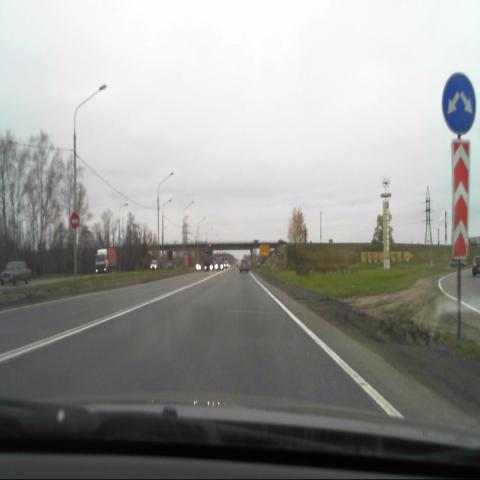4_2_3: (441, 67, 479, 139)
